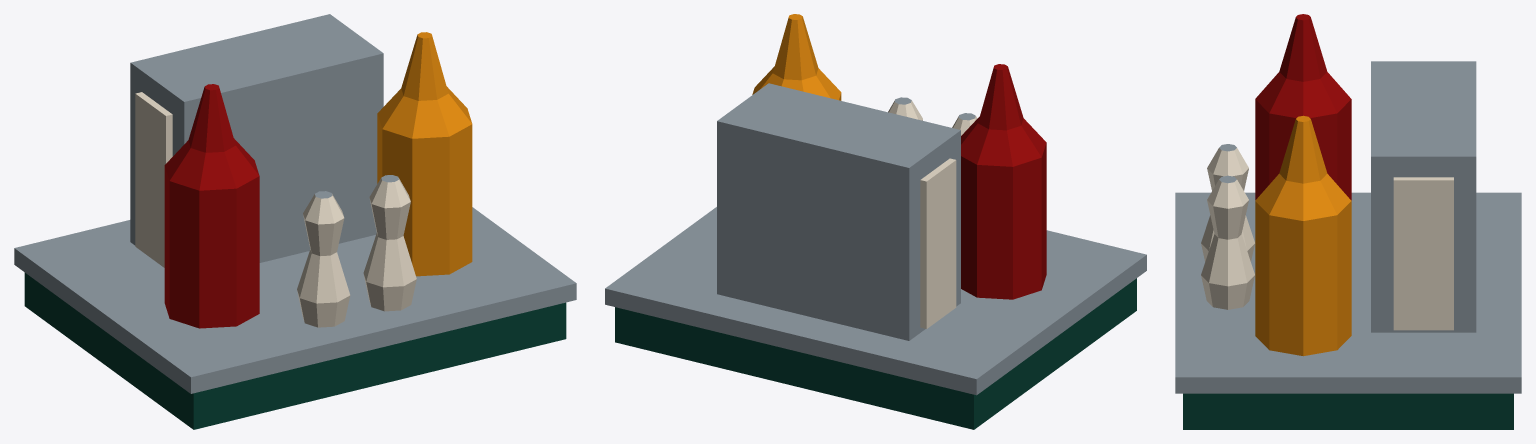
The model's file is cozy_bowling_condiment_caddy.obj.
The picture shows the model from 3 angles, left to right: view 1: azimuth 30°, elevation 25°; view 2: azimuth 150°, elevation 25°; view 3: azimuth 270°, elevation 25°; orthographic projection. The views are drawn at different scales.
Parts seen in each view (by area): view 1: Caddy_Mesh; view 2: Caddy_Mesh; view 3: Caddy_Mesh.
Boxes of the visible parts, left/top/right/bottom form: Caddy_Mesh: left=14, top=14, right=576, bottom=429; Caddy_Mesh: left=605, top=14, right=1146, bottom=429; Caddy_Mesh: left=1175, top=14, right=1521, bottom=429.
Size of the model in its own units: 0.29 by 0.2 by 0.23.
